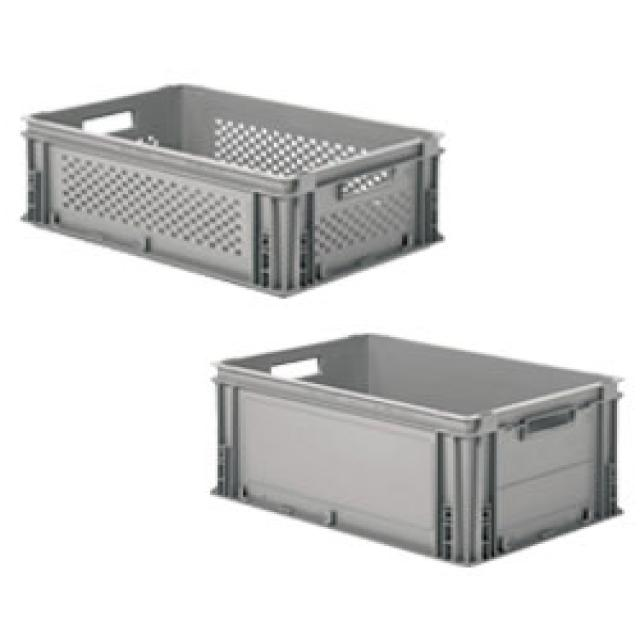basket: (2, 55, 460, 322)
